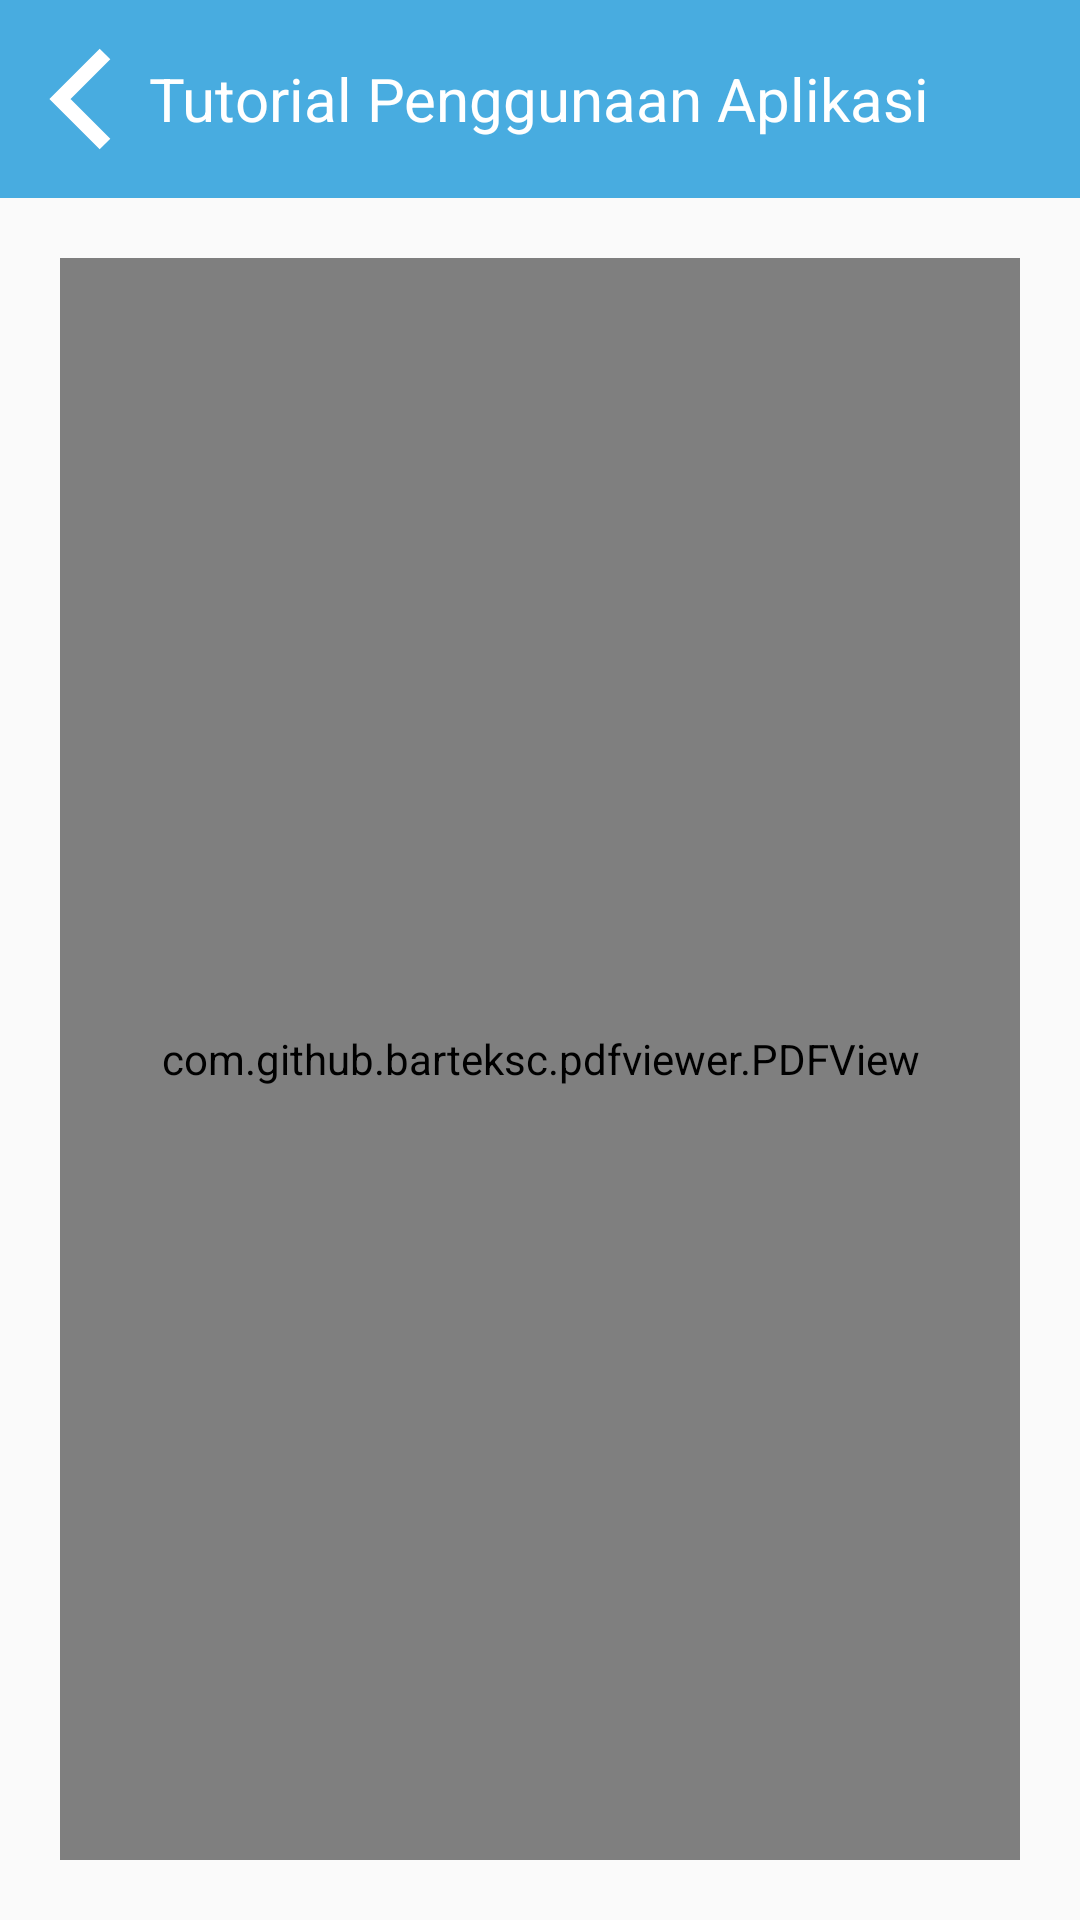

Icons on this 1080 x 1920 Android screen, each with its box as (x1, y1, x2, y2):
back: (49, 49, 110, 149)
